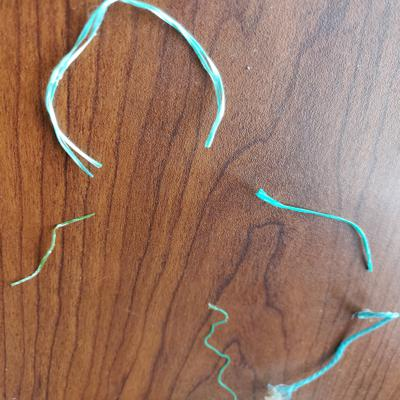thread: (43, 1, 228, 183), (263, 305, 400, 400), (251, 183, 382, 278), (7, 209, 98, 292), (202, 297, 242, 400)
